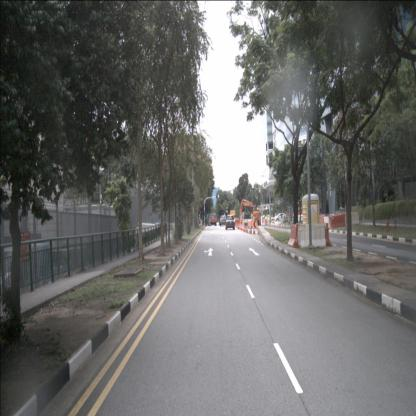movable_object-barrier: (301, 224, 326, 248), (287, 224, 299, 248), (330, 214, 346, 229), (345, 212, 359, 226), (324, 217, 330, 229), (319, 216, 325, 228)
movable_object-trafficcone: (252, 226, 256, 236), (257, 225, 260, 235), (281, 223, 283, 229)
vehicle-car: (0, 243, 50, 298), (53, 244, 91, 282), (225, 215, 235, 230), (274, 213, 287, 222), (219, 215, 227, 226), (210, 214, 217, 225), (265, 215, 274, 222)
vehicle-truck: (243, 211, 252, 227), (230, 210, 236, 221)
